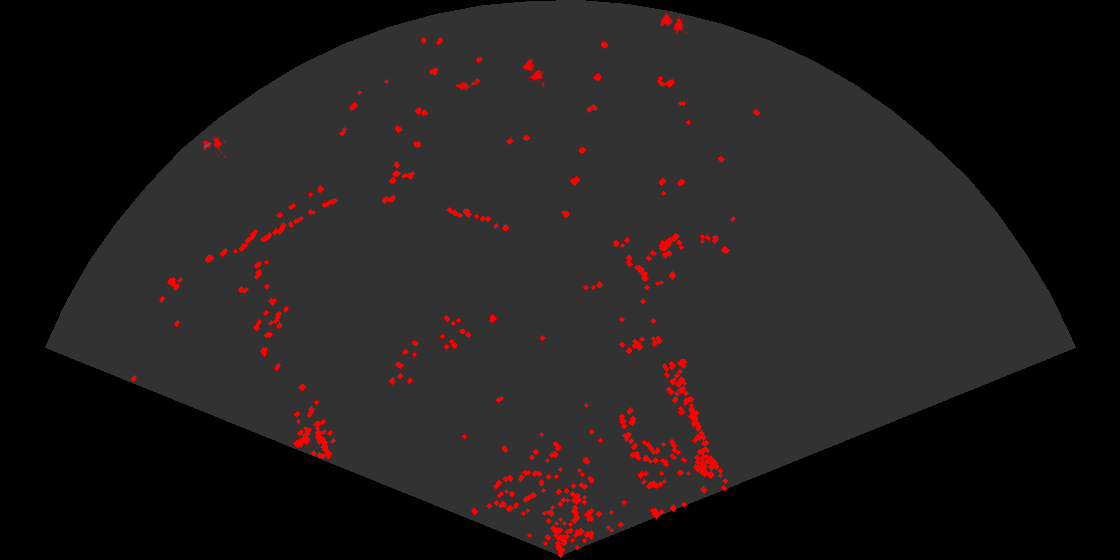cage: (521, 57, 545, 87), (659, 12, 687, 34), (202, 134, 226, 158)
frogman: (456, 80, 478, 92)
